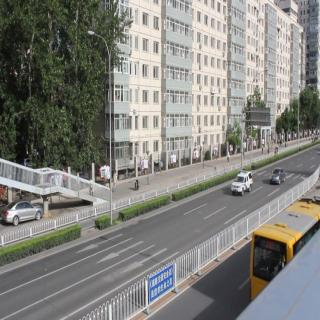Car: (3, 194, 47, 227), (229, 166, 253, 203), (272, 155, 288, 192)
